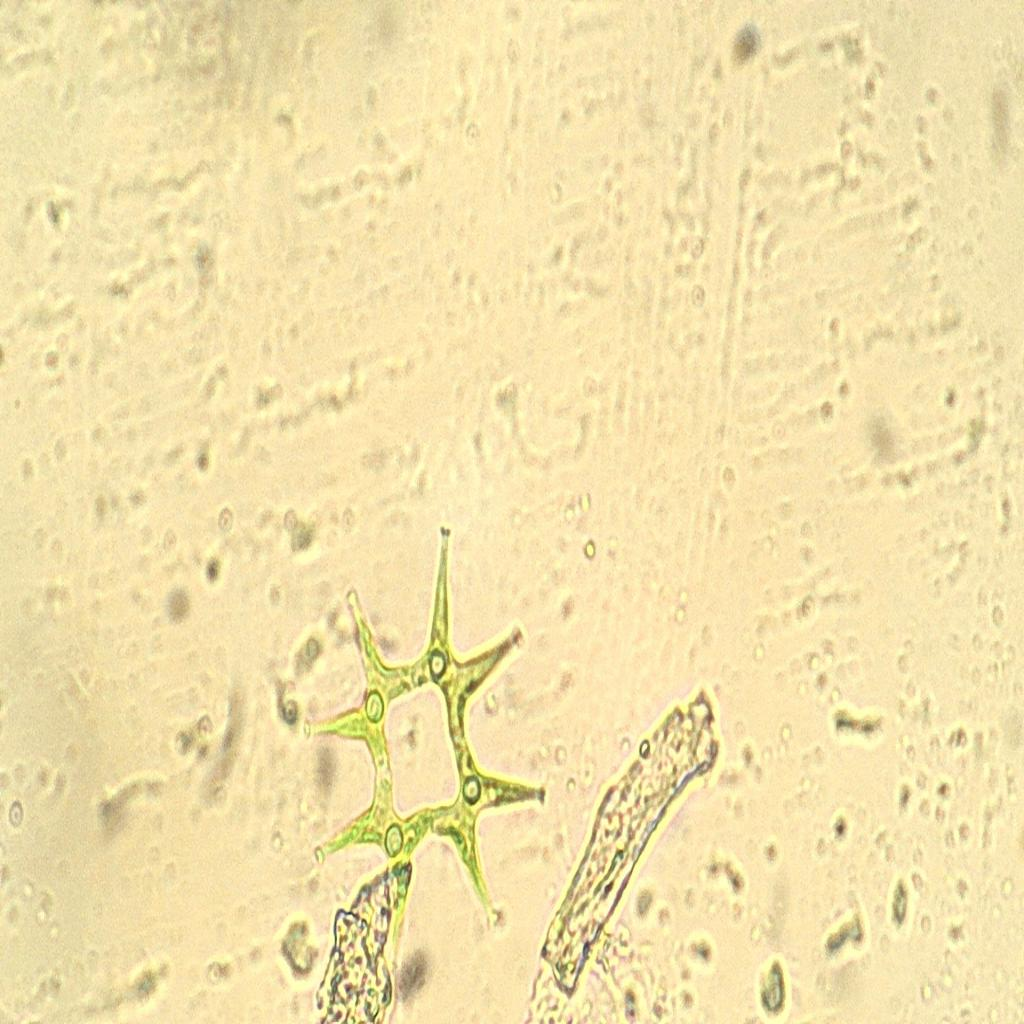Pediastrum_CO: (294, 507, 552, 971)
